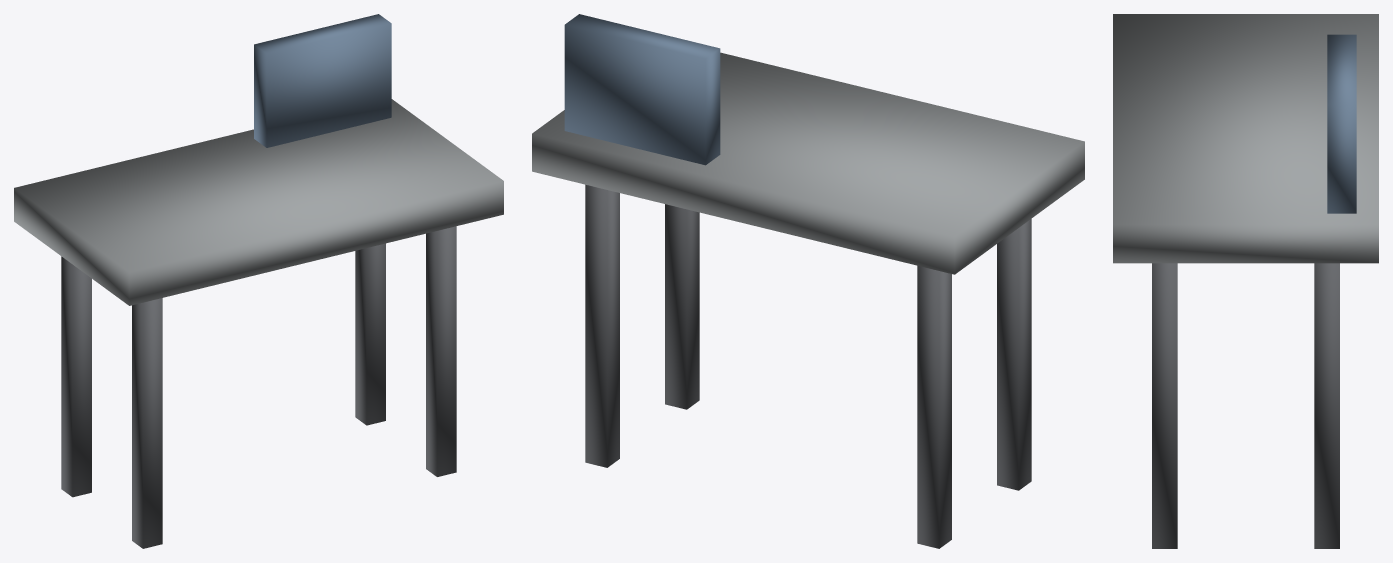
Rendered from welding_table__tall.glb.
3 renders of one model, left to right at view 1: azimuth 30°, elevation 25°; view 2: azimuth 150°, elevation 25°; view 3: azimuth 270°, elevation 25°, orthographic. The views are drawn at different scales.
Visible parts, largest first — view 1: world; view 2: world; view 3: world.
Part boxes in pixels (<box>): world: <box>14,14,503,548</box>; world: <box>532,14,1084,548</box>; world: <box>1113,14,1378,548</box>.
Bounding box in the file's own units: 1.35 × 1.35 × 0.72.
